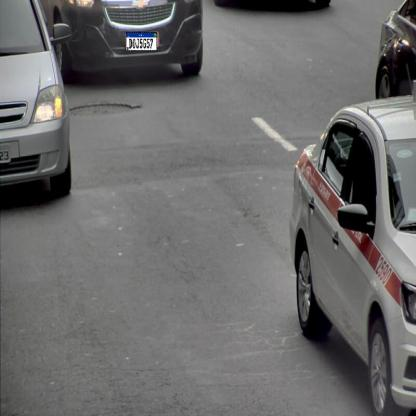PlacaM: (126, 32, 157, 51)
